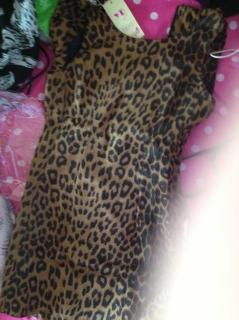vest: (0, 0, 229, 319)
